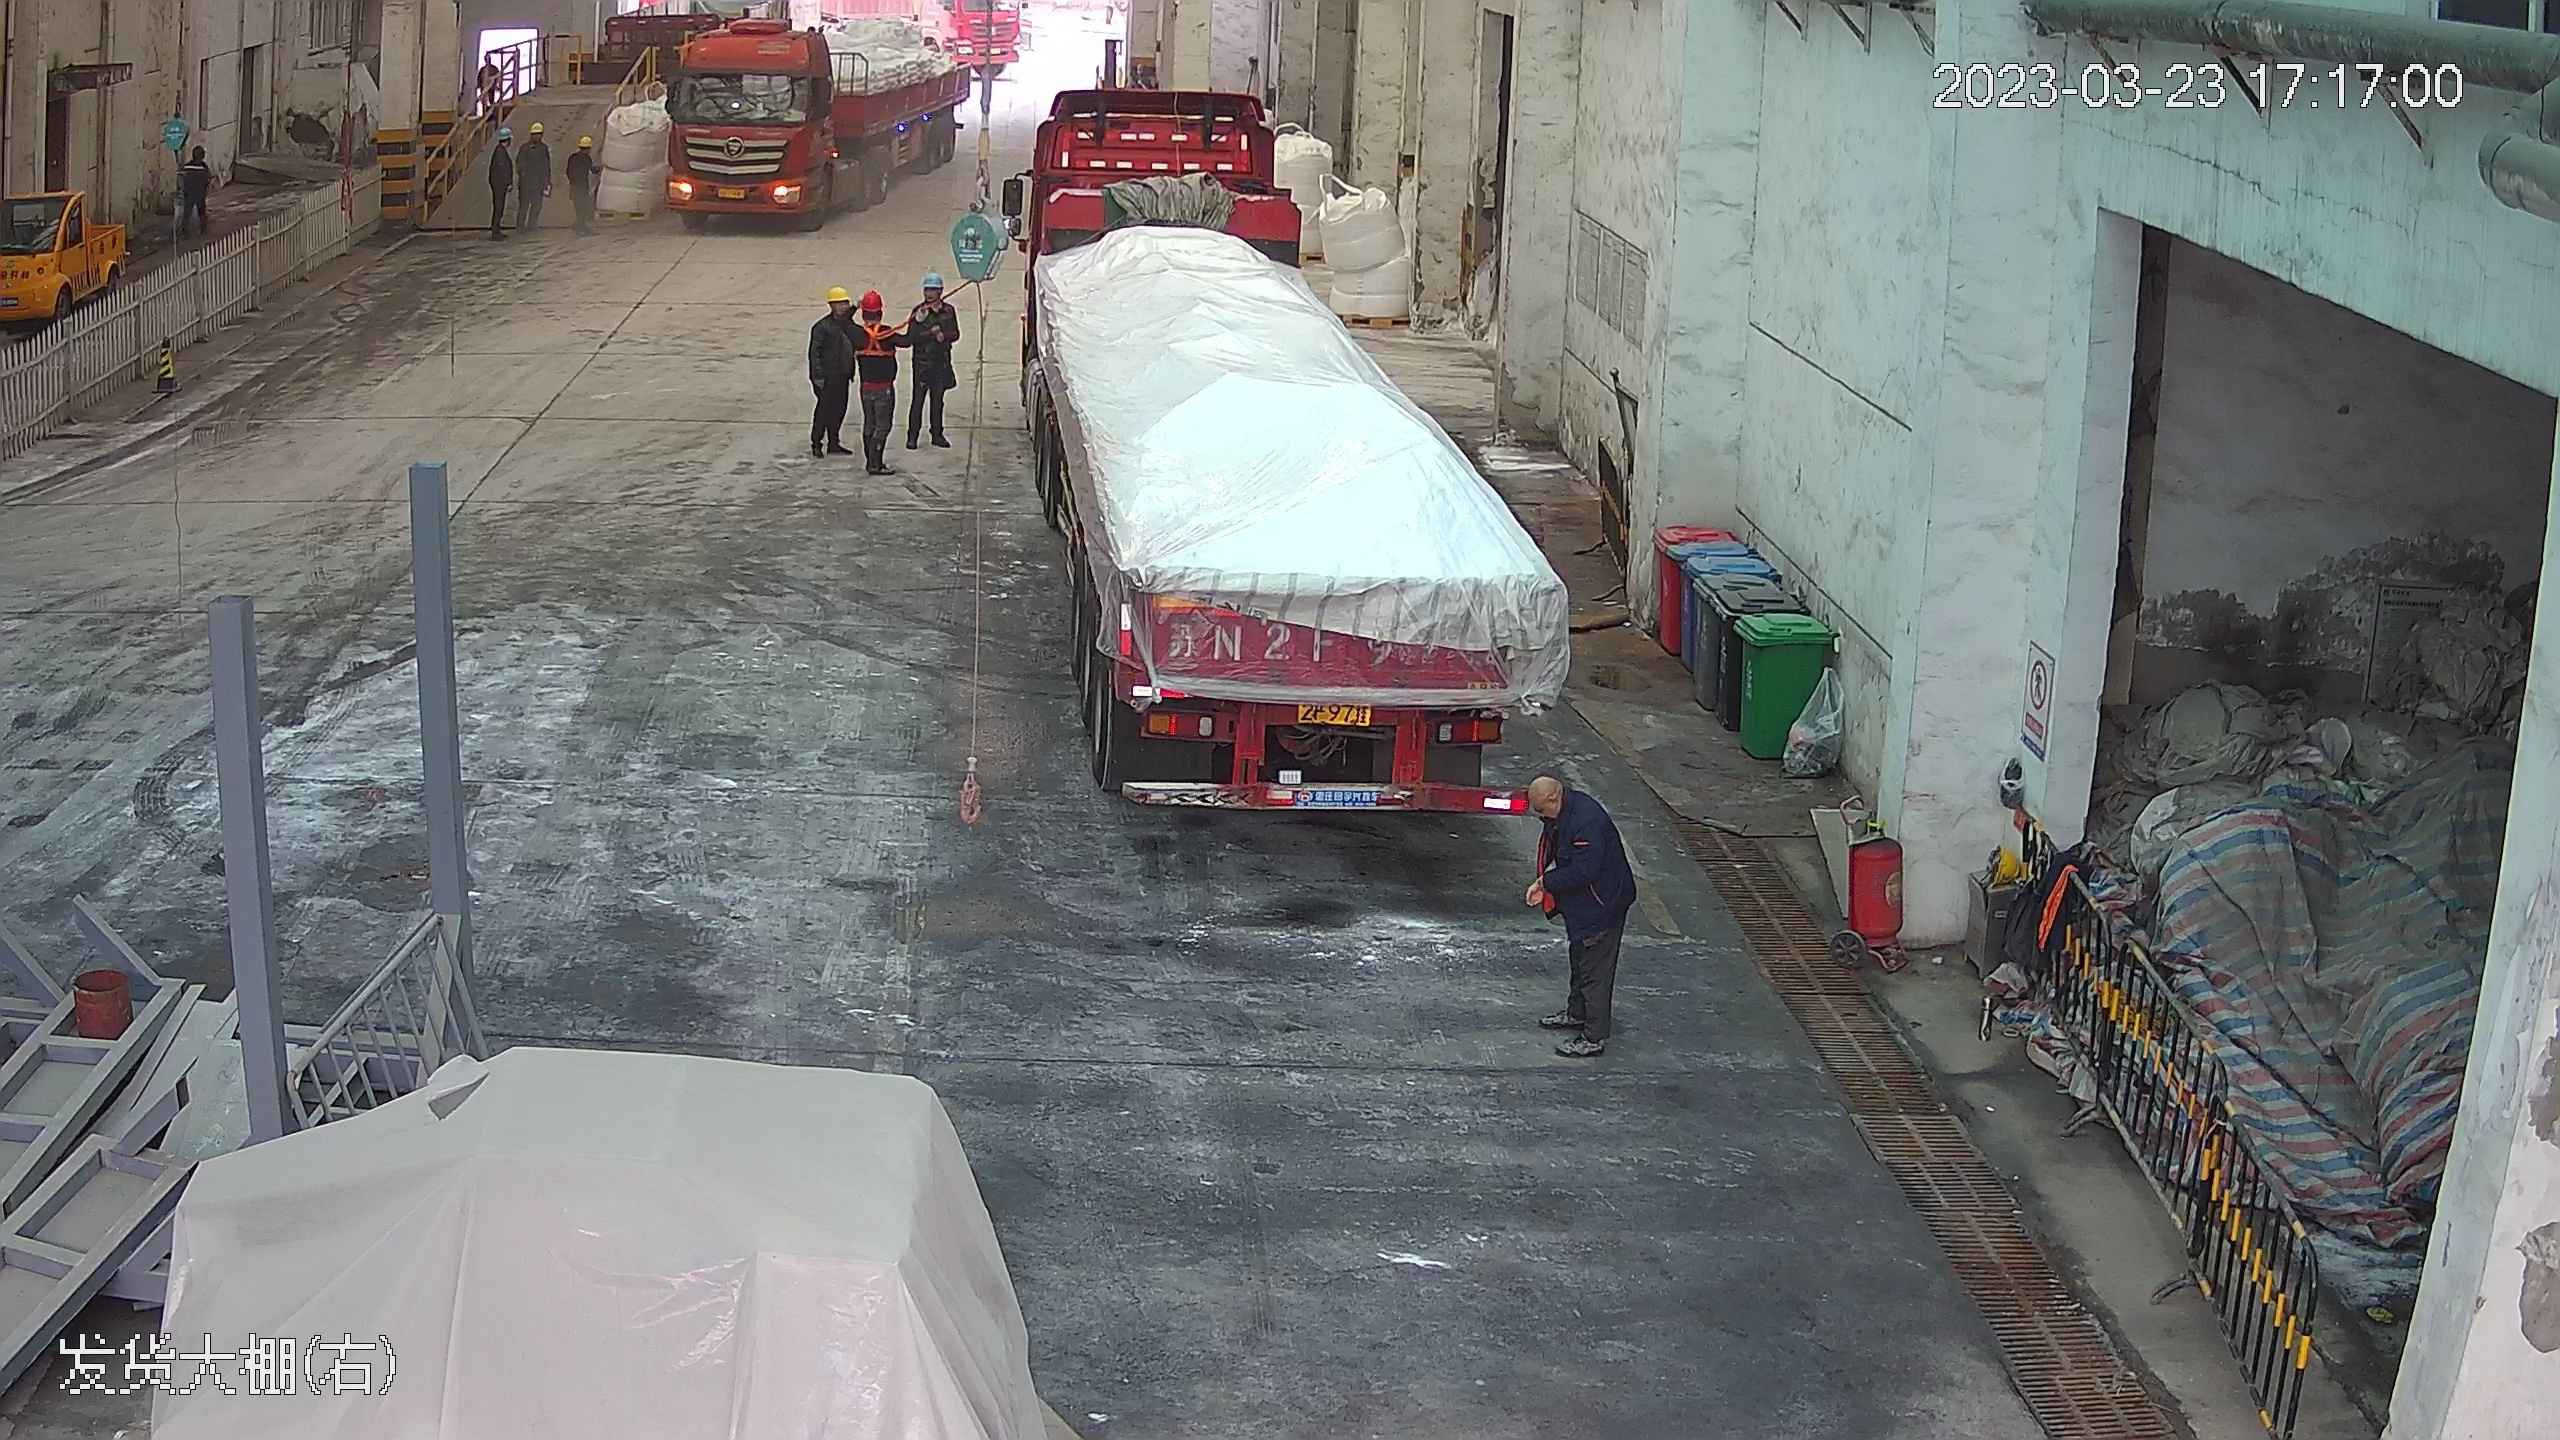belt: (854, 317, 899, 361)
head: (1529, 765, 1605, 851), (908, 270, 961, 328), (808, 284, 862, 342), (512, 118, 549, 159), (568, 130, 602, 168), (483, 121, 514, 164), (181, 143, 210, 180)
helmet: (815, 287, 865, 325), (851, 294, 882, 319), (822, 283, 851, 303), (924, 273, 948, 290), (520, 116, 541, 132), (493, 126, 513, 143), (575, 135, 593, 149)
people: (1523, 757, 1638, 1055), (898, 269, 964, 453), (801, 283, 865, 465), (843, 274, 901, 468), (499, 113, 541, 237), (481, 115, 517, 234), (564, 127, 603, 227), (175, 143, 212, 240)
truck: (1008, 59, 1569, 822), (638, 7, 959, 225)
